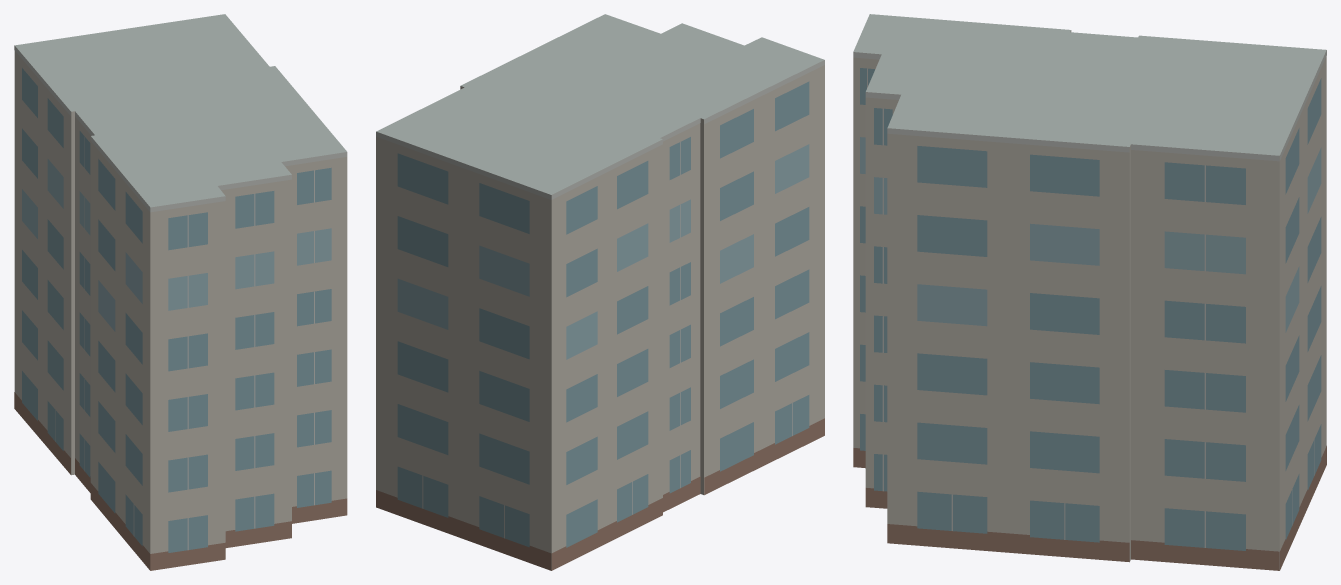
Rendered from survey-upis-32710673.glb.
3 renders of one model, left to right at view 1: azimuth 30°, elevation 25°; view 2: azimuth 150°, elevation 25°; view 3: azimuth 270°, elevation 25°, orthographic. The views are drawn at different scales.
Parts seen in each view (by area): view 1: survey-upis-32710673.tmp; view 2: survey-upis-32710673.tmp; view 3: survey-upis-32710673.tmp.
Boxes of the visible parts, box(x1,y1,x2,y2) form: survey-upis-32710673.tmp: box(14, 14, 347, 570); survey-upis-32710673.tmp: box(376, 14, 824, 570); survey-upis-32710673.tmp: box(853, 14, 1326, 570).
Size of the model in its own units: 13.34 by 18.2 by 18.83.
